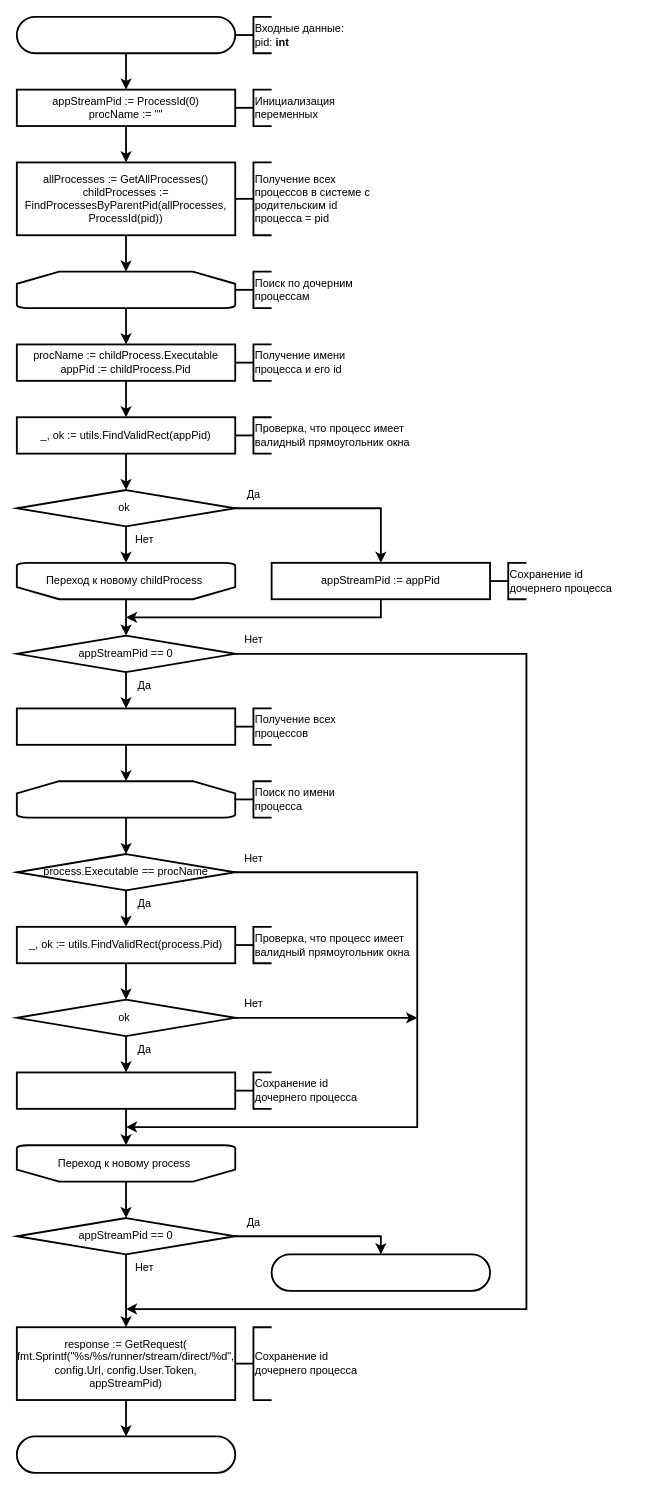
This 651x1489 diagram has some shape labels left out. Here are the shapes that lost their labels. From the top down, the box of each, then its label:
(15, 15, 236, 54): Начало
(15, 270, 236, 308): цикл по каждому childProcess из childProcesses
(15, 707, 236, 745): allProcesses := GetAllProcesses()
(15, 780, 236, 818): цикл по каждому process из allProcesses
(15, 1071, 236, 1109): appStreamPid := process.Pid
(270, 1253, 490, 1291): Ошибка
(15, 1435, 236, 1473): Возврат response
